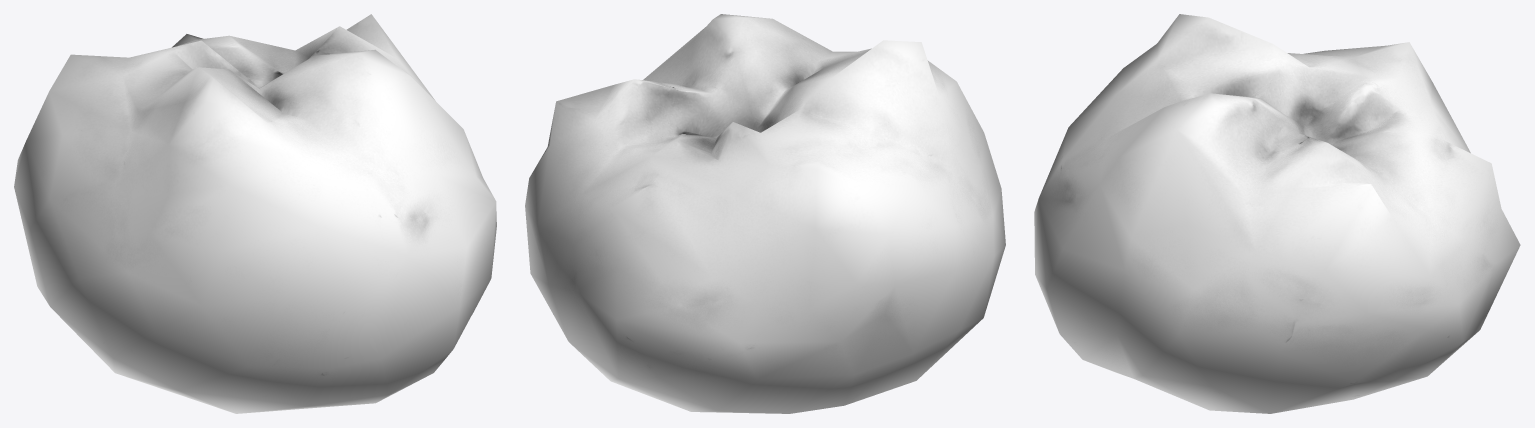
Rendered from RoundBread.fbx.
3 renders of one model, left to right at view 1: azimuth 30°, elevation 25°; view 2: azimuth 150°, elevation 25°; view 3: azimuth 270°, elevation 25°, orthographic. The views are drawn at different scales.
Parts seen in each view (by area): view 1: Mesh; view 2: Mesh; view 3: Mesh.
Part boxes in pixels (x1,y1,x2,y2): Mesh: (14,14,496,413); Mesh: (525,14,1005,413); Mesh: (1034,14,1520,413).
Size of the model in its own units: 12.4 by 9.19 by 13.2.
